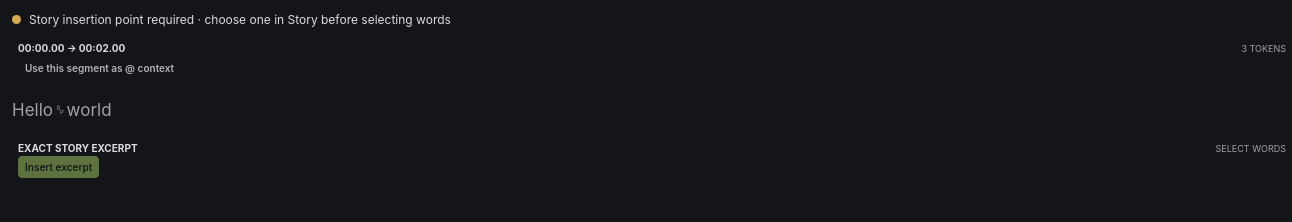
Scenario: CreatorTranscriptExcerpt › explains the Story-first handoff before and after an unanchored selection
This screenshot has width=1292, height=222.
Expected: the text "Story insertion point required · choose one in Story before selecting words" is shown, [29,12,451,27]
Expected: the button "Insert excerpt" is disabled, [18,156,99,178]
What coordinates should you click on to do the following:
click the button with aria-label "Select token 1 · Hello"
I would click on:
 (32, 110)
Its box is [12,94,53,127].
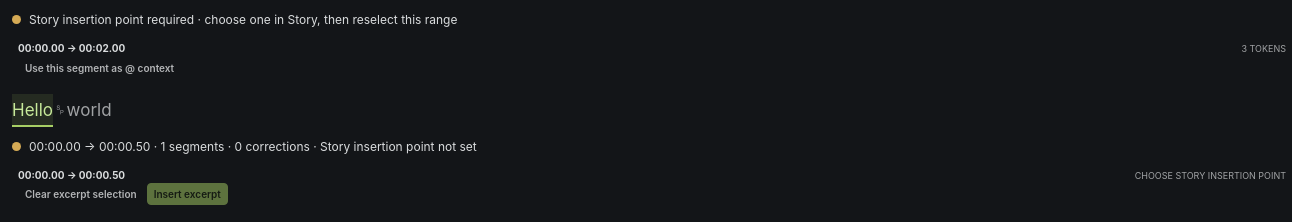
What coordinates should you click on to do the following:
click the button with aria-label "Select token 3 · world"
I would click on:
 (89, 110)
Its box is [67,94,112,127].
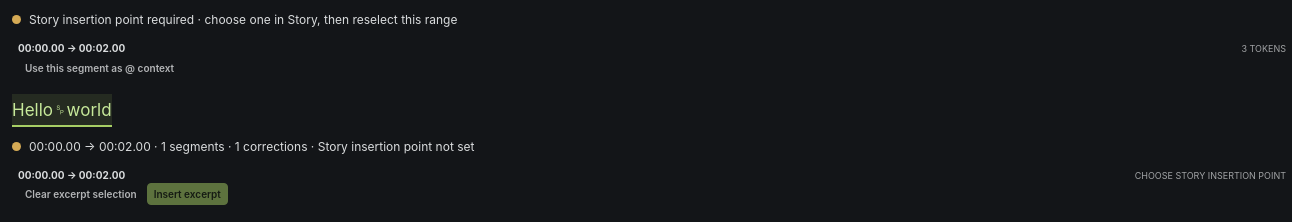
Expected: the text "Story insertion point required · choose one in Story, then reselect this range" is shown, [29,12,458,27]
Expected: the text "1 corrections · Story insertion point not set" is shown, [29,139,474,154]
